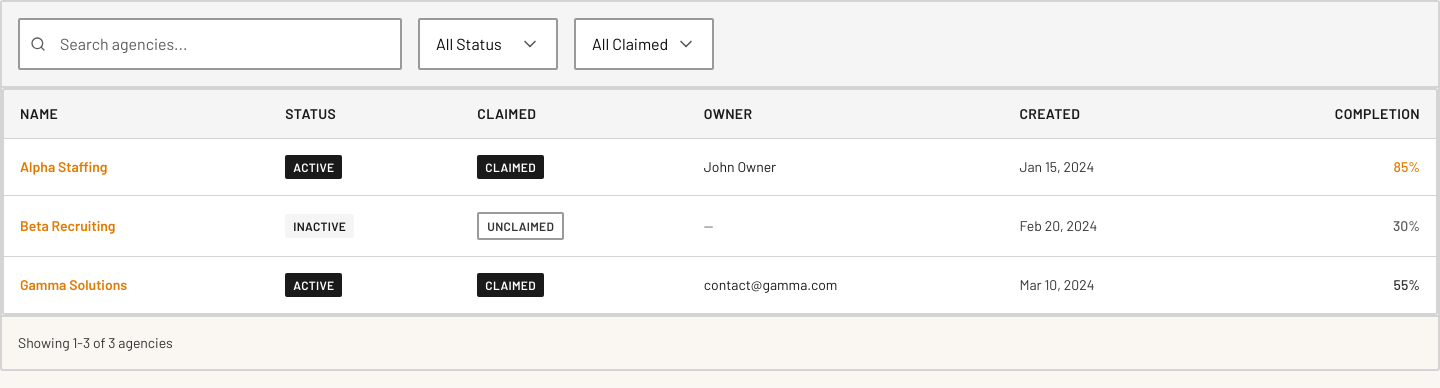
Test: AdminAgenciesTable › Search Filtering › case-insensitive search works correctly
Type "GAMMA" into the field with test id "agency-search-input".
click(210, 44); type("GAMMA")  # box [18,18,402,70]
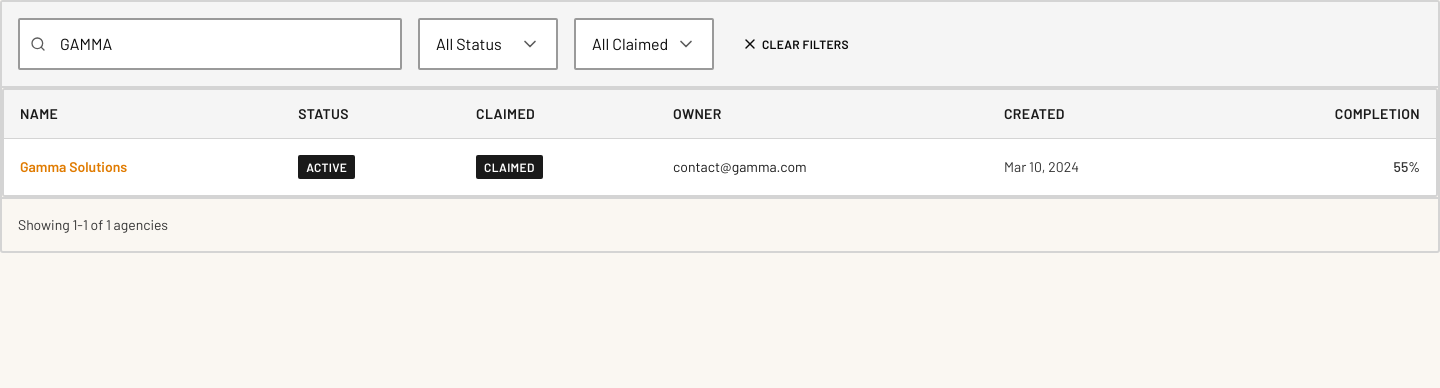
Expected: the link "Gamma Solutions" is shown, [20,158,127,174]
Expected: the link "Alpha Staffing" is gone
